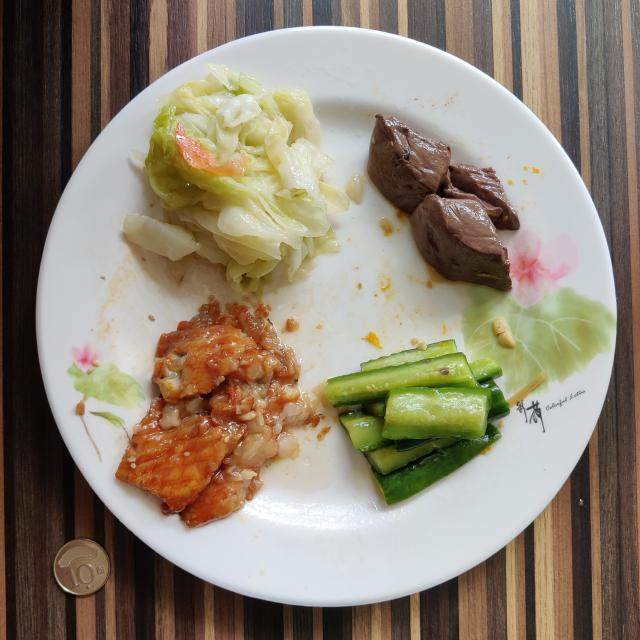Kabayaki sea bream fillet: (116, 301, 318, 528)
cabbage: (124, 64, 350, 296)
coin: (54, 539, 110, 595)
cucumber: (325, 340, 510, 505)
pig blood curd: (368, 114, 520, 291)
